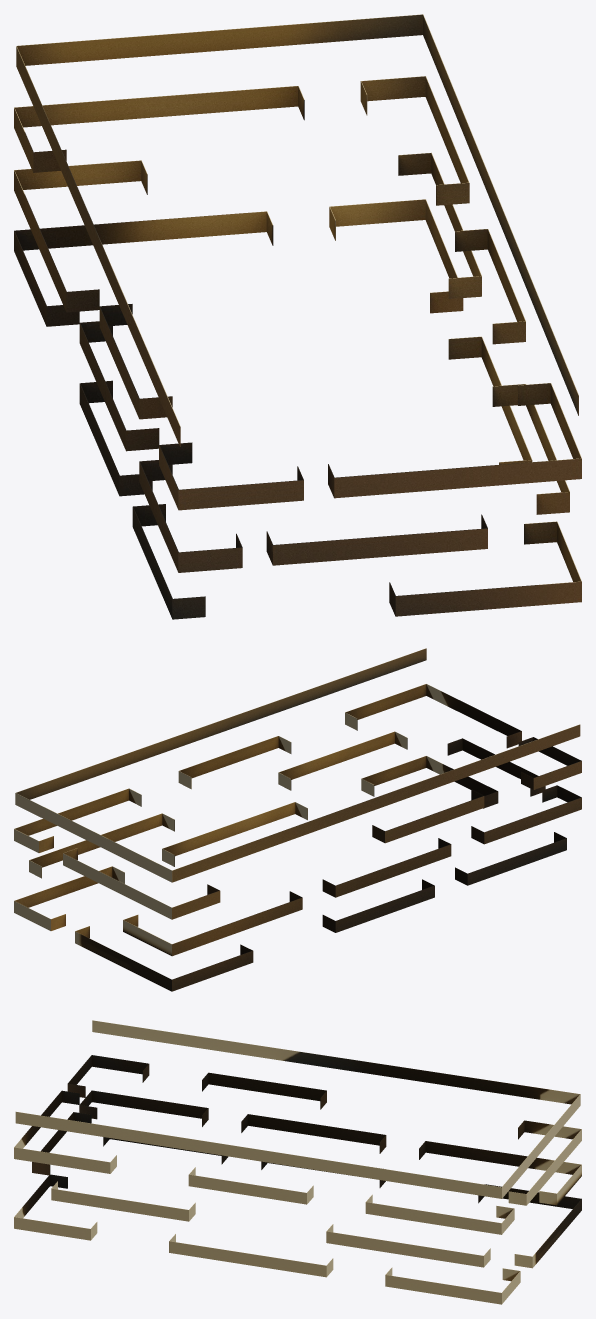
Rendered from Balustrade_06.fbx.
The picture shows the model from 3 angles, top to bottom: view 1: azimuth 30°, elevation 25°; view 2: azimuth 150°, elevation 25°; view 3: azimuth 270°, elevation 25°; orthographic projection. The views are drawn at different scales.
Visible parts, largest first — view 1: Balustrade_06; view 2: Balustrade_06; view 3: Balustrade_06.
Boxes of the visible parts, x1,y1,x2,y2 form: Balustrade_06: (14,14,581,619); Balustrade_06: (14,648,581,991); Balustrade_06: (14,1020,581,1304).
Size of the model in its own units: 31.22 by 10.07 by 44.5.
Materials: 1 (1 with a texture image).
